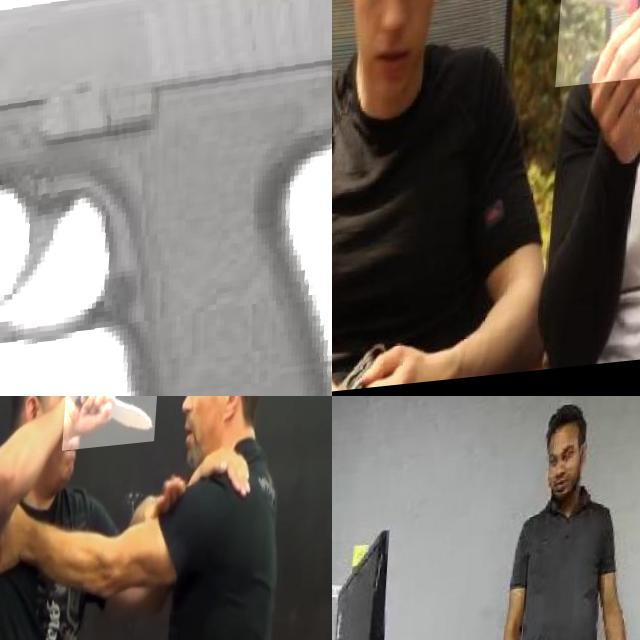-: (560, 0, 640, 94), (64, 396, 161, 455)
gun-knife-thesis - v11 Yolov5 augmented: (0, 0, 332, 396)
